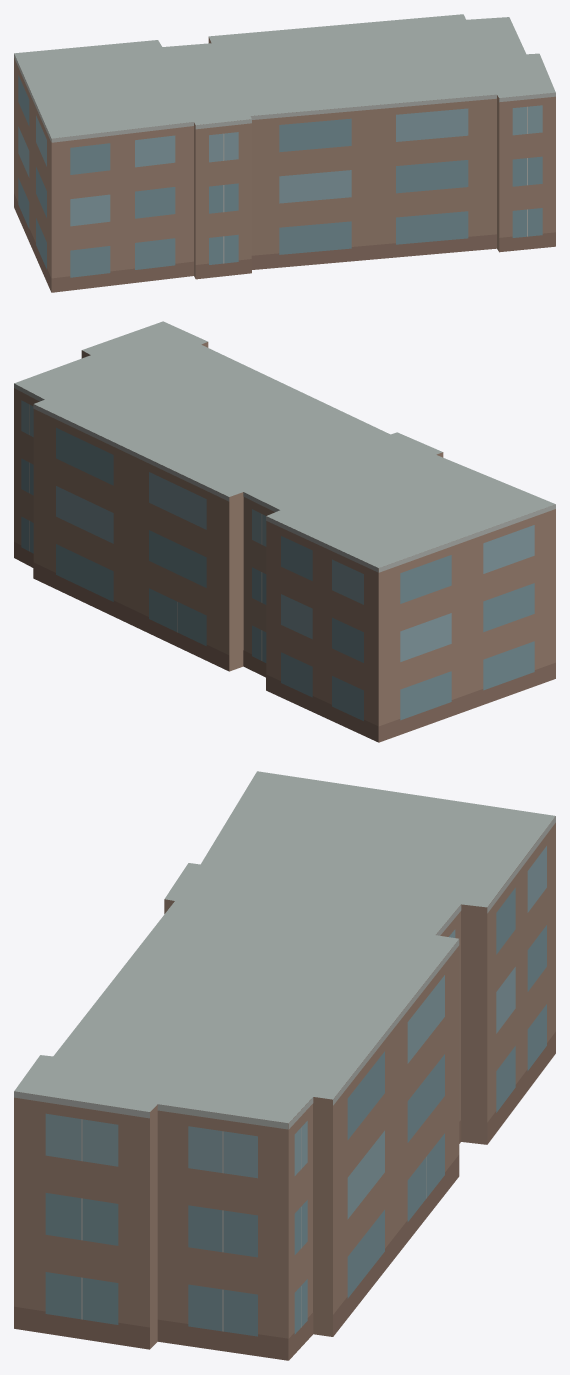
The model's file is survey-upis-32587519.glb.
The picture shows the model from 3 angles, top to bottom: view 1: azimuth 30°, elevation 25°; view 2: azimuth 150°, elevation 25°; view 3: azimuth 270°, elevation 25°; orthographic projection. The views are drawn at different scales.
Parts seen in each view (by area): view 1: survey-upis-32587519.tmp; view 2: survey-upis-32587519.tmp; view 3: survey-upis-32587519.tmp.
Boxes of the visible parts, x1,y1,x2,y2 form: survey-upis-32587519.tmp: (14, 14, 555, 292); survey-upis-32587519.tmp: (14, 321, 555, 742); survey-upis-32587519.tmp: (14, 771, 555, 1360).
Bounding box in the file's own units: 29.1 × 9.15 × 18.93.
